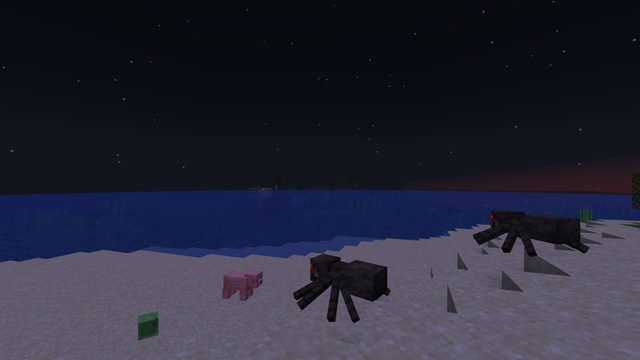araignees: (299, 247, 377, 317), (483, 206, 578, 258)
cochons: (222, 268, 255, 302)
slimes: (133, 310, 162, 339)
